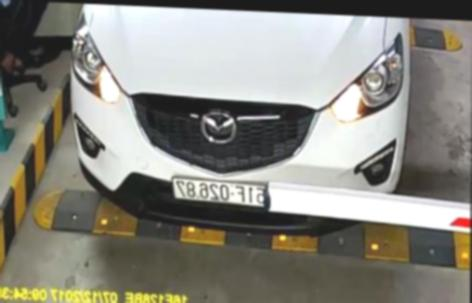License_Plate: (170, 174, 267, 214)
